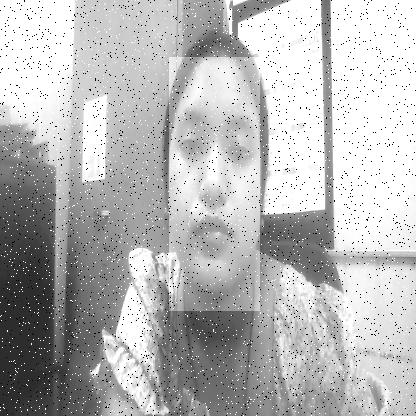Normal: (169, 57, 260, 311)
